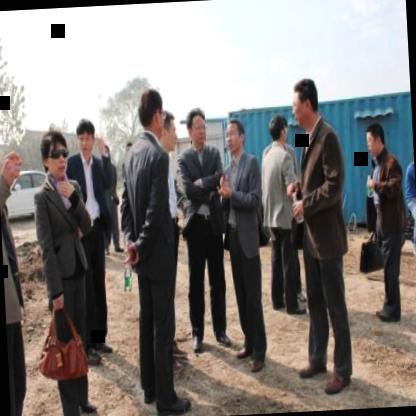head: (288, 76, 322, 130), (136, 85, 166, 141), (40, 124, 70, 178), (70, 116, 100, 160), (184, 106, 211, 152), (158, 108, 180, 152), (364, 118, 386, 158), (224, 117, 246, 155), (268, 110, 288, 146), (0, 82, 4, 157)
